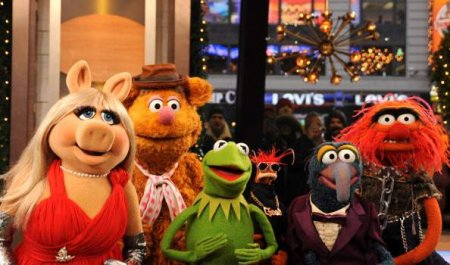kermit: (201, 139, 253, 201)
